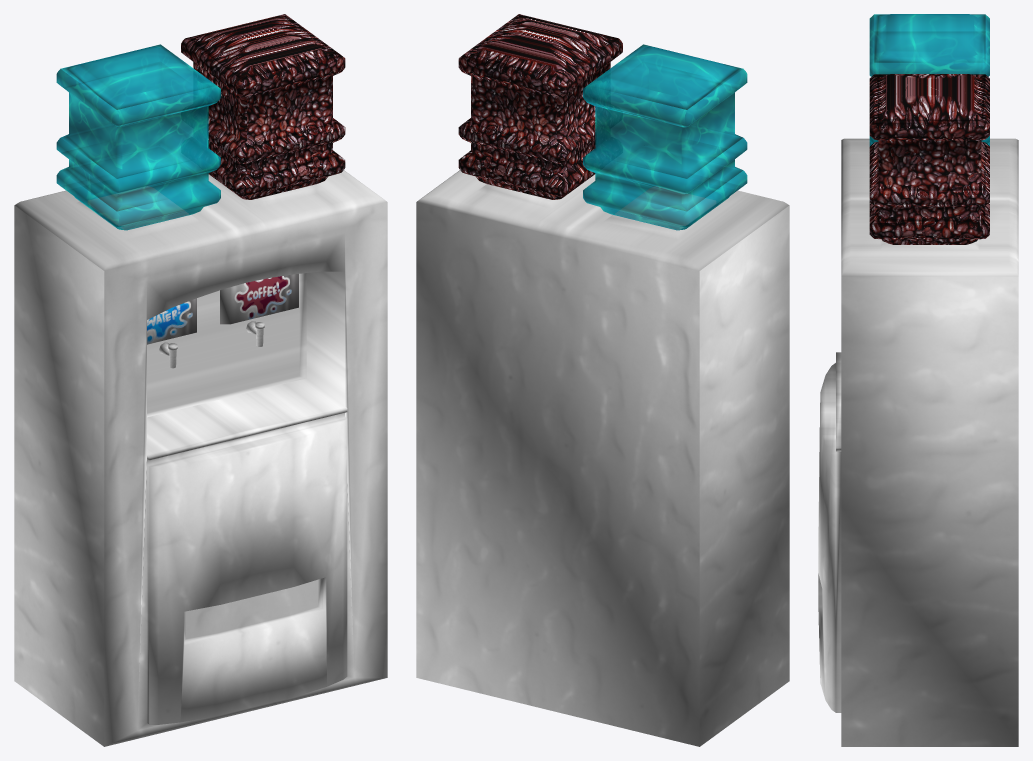
Rendered from Bedroom_watercooler.glb.
3 views of the same model, side by side, from view 1: azimuth 30°, elevation 25°; view 2: azimuth 150°, elevation 25°; view 3: azimuth 270°, elevation 25° (orthographic).
Parts seen in each view (by area): view 1: Cube.025, Cube.027, Cube.026, Cylinder.005; view 2: Cube.025, Cube.027; view 3: Cube.025, Cube.027.
Part boxes in pixels (<box>): Cube.025: <box>14,170,387,746</box>; Cube.027: <box>56,14,345,230</box>; Cube.026: <box>147,274,298,344</box>; Cylinder.005: <box>159,321,264,368</box>; Cube.025: <box>416,170,789,746</box>; Cube.027: <box>458,14,747,230</box>; Cube.025: <box>818,138,1018,746</box>; Cube.027: <box>869,14,989,244</box>.
Size of the model in its own units: 1.88 by 3.99 by 1.17.
5 materials, 5 textured.
